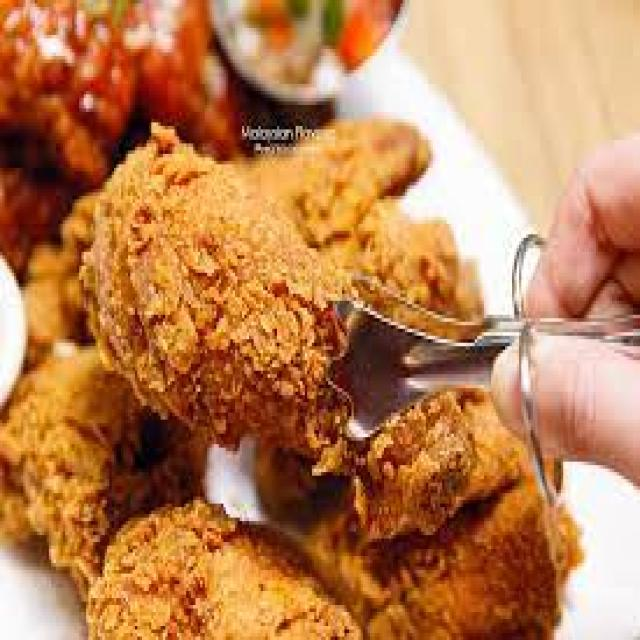Frango: (110, 192, 346, 464), (241, 124, 452, 337), (365, 403, 527, 640), (6, 354, 198, 550), (88, 510, 344, 640)
